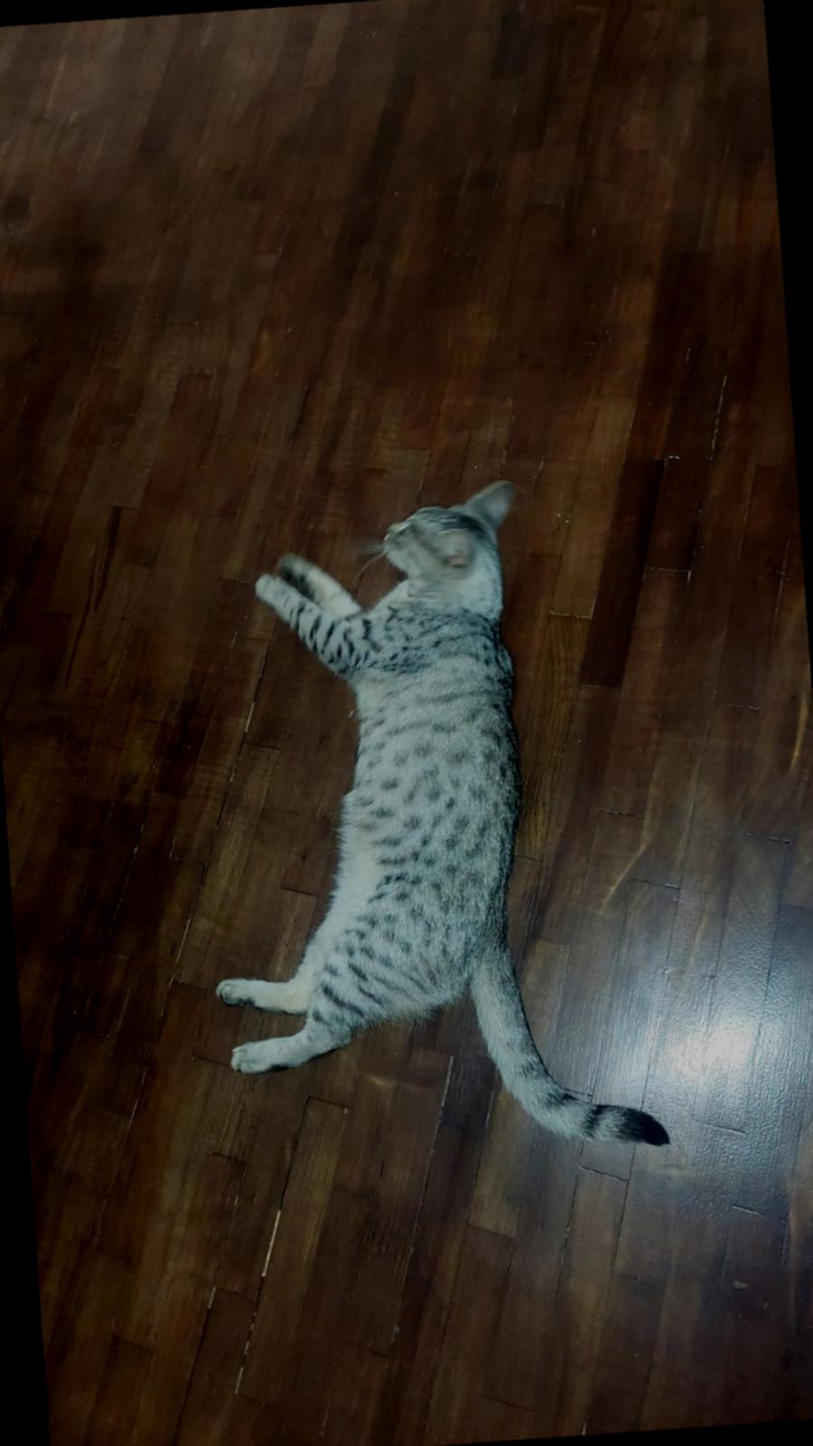macka: (177, 468, 672, 1178)
